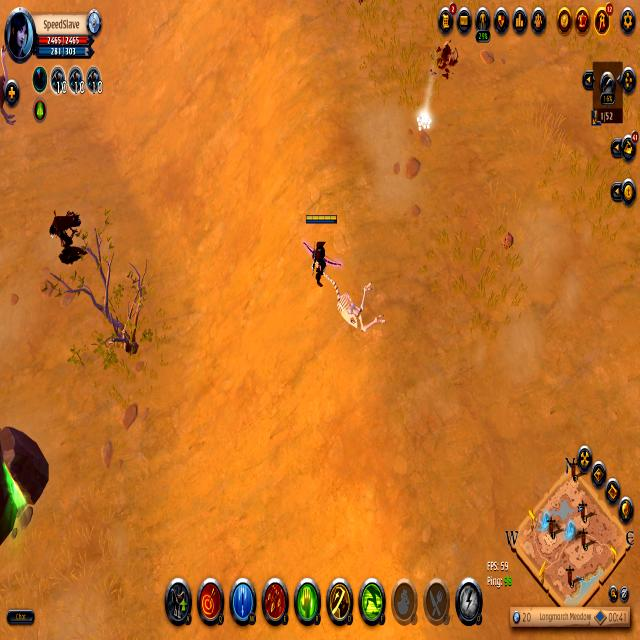ore: (46, 206, 86, 268)
red: (302, 210, 339, 287)
stone: (416, 106, 432, 134)
